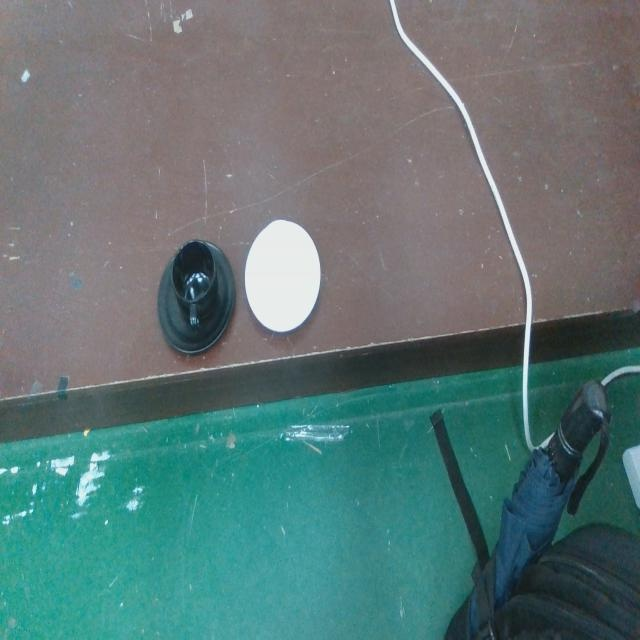black: (156, 236, 239, 358)
white: (243, 214, 322, 337)
